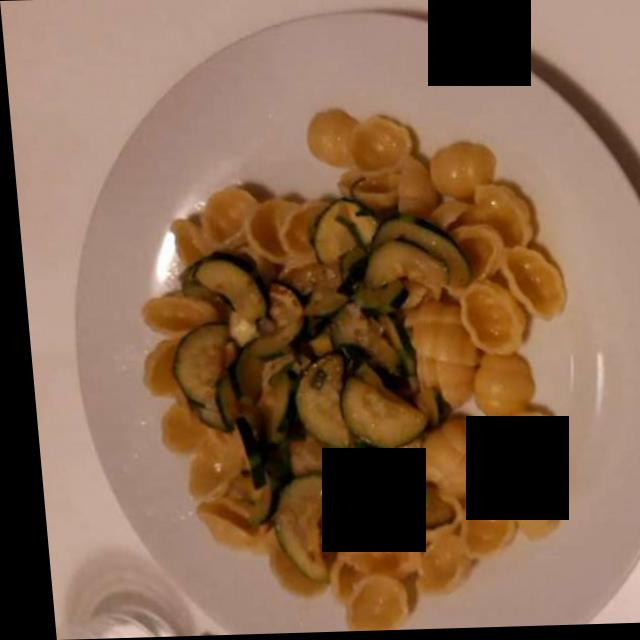pasta: (146, 115, 554, 620)
zucchini-stewed-without-addition-of-fat-without-addition-of-salt: (172, 216, 465, 572)
